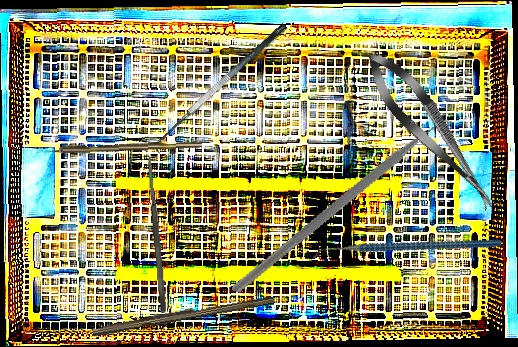Chopper: (231, 71, 466, 345), (308, 188, 503, 314)
Hook Surgical: (35, 140, 203, 155)
Micro Scissor: (356, 42, 507, 220)
Scalpel Handle: (91, 290, 275, 340)
Spatula Surgical: (147, 22, 298, 158), (145, 154, 168, 314)
